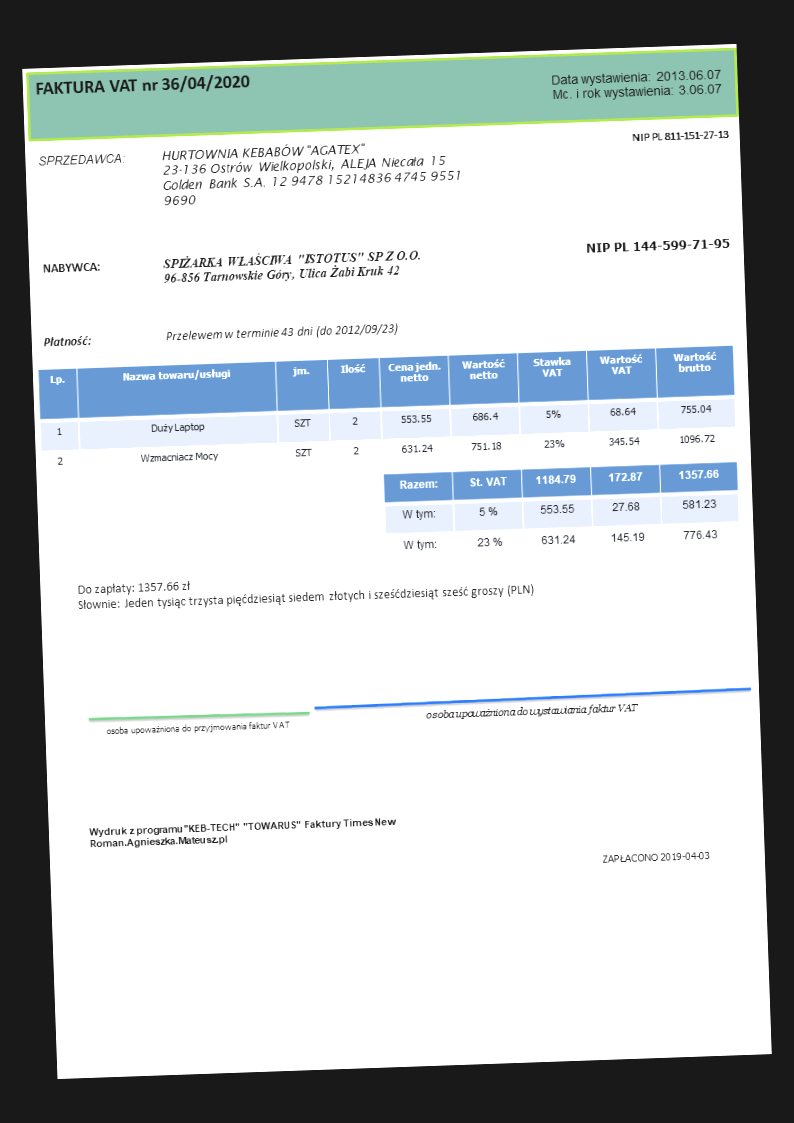Table: (36, 343, 738, 482), (382, 462, 741, 565)
TextBox: (74, 566, 536, 617), (158, 136, 464, 211), (87, 814, 400, 851), (160, 246, 423, 287), (547, 66, 725, 105), (33, 71, 252, 99), (162, 320, 399, 344), (423, 699, 640, 723), (105, 719, 292, 737), (583, 236, 730, 256), (599, 847, 712, 866), (36, 147, 126, 168), (629, 127, 731, 144), (40, 259, 103, 275), (41, 332, 93, 350)
